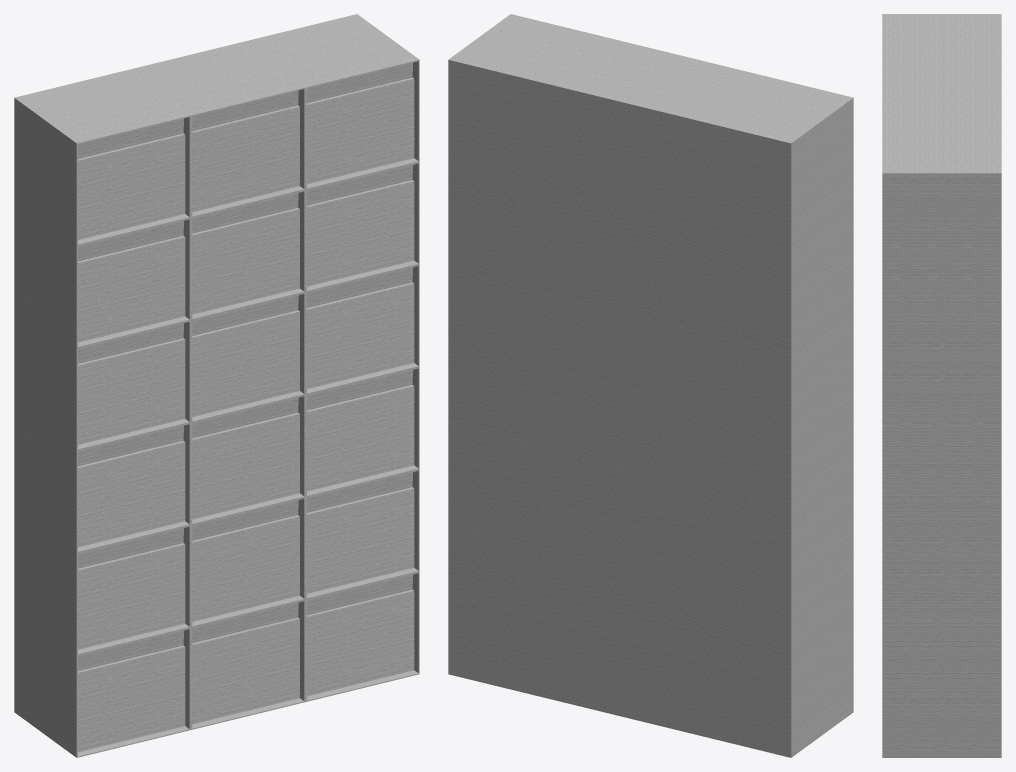
Rendered from Briefkästen.glb.
3 renders of one model, left to right at view 1: azimuth 30°, elevation 25°; view 2: azimuth 150°, elevation 25°; view 3: azimuth 270°, elevation 25°, orthographic. The views are drawn at different scales.
Visible parts, largest first — view 1: Cube.010; view 2: Cube.010; view 3: Cube.010.
Boxes of the visible parts, x1,y1,x2,y2 form: Cube.010: (14,14,419,757); Cube.010: (448,14,853,757); Cube.010: (882,14,1001,757).
Bounding box in the file's own units: 2.08 × 3.56 × 0.6562.
Materials: 1 (1 with a texture image).
